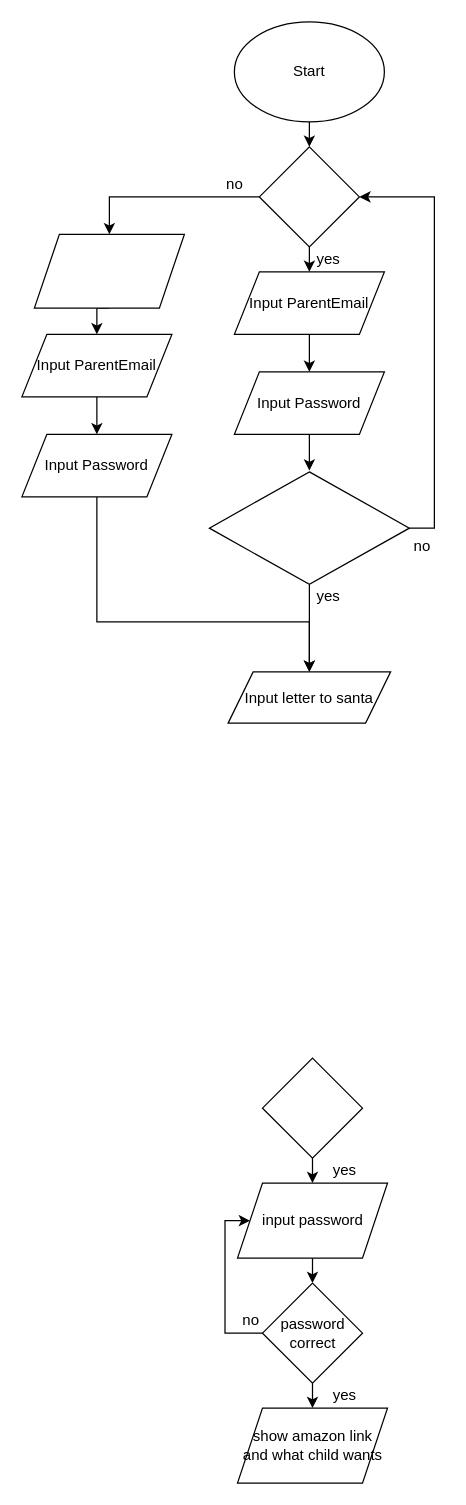
This 466x1505 diagram has some shape labels left out. The box of each missing label's shape, as (x1, y1, x2, y2) in pixels:
Input ChlidName: (33, 233, 184, 308)
login: (258, 146, 359, 247)
password correct and ParentEmail correct?: (208, 471, 409, 584)
press button to login as adult: (261, 1057, 362, 1158)
